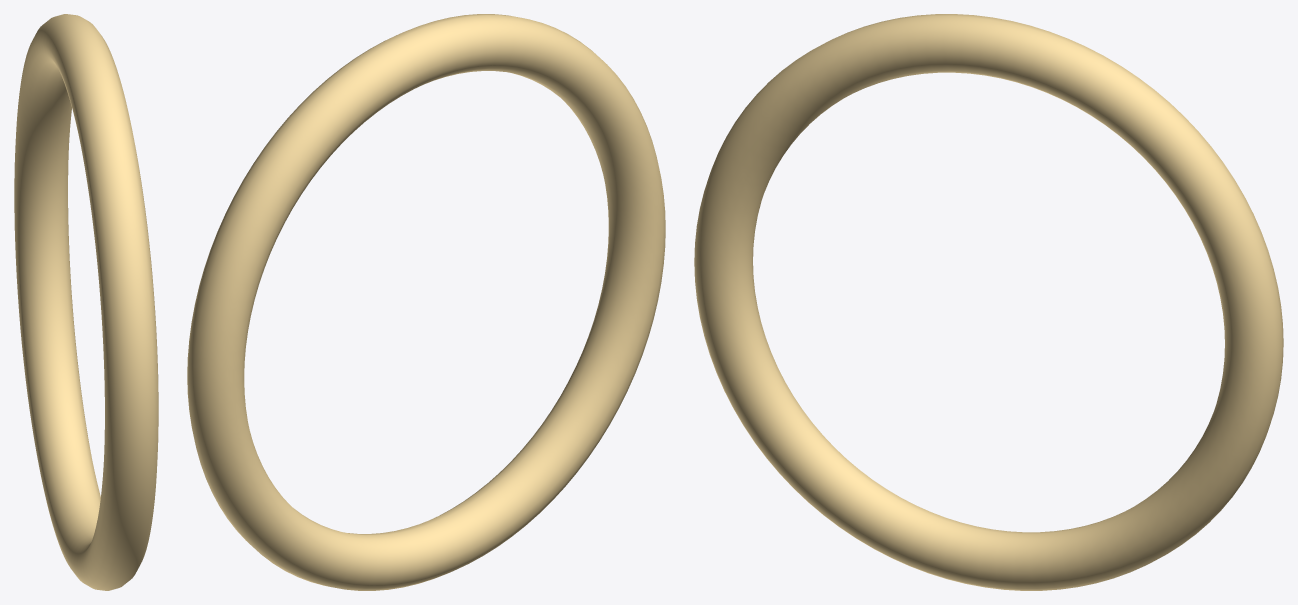
File: earring-hoop.glb
3 renders of one model, left to right at view 1: azimuth 30°, elevation 25°; view 2: azimuth 150°, elevation 25°; view 3: azimuth 270°, elevation 25°, orthographic. The views are drawn at different scales.
Visible parts, largest first — view 1: hoop; view 2: hoop; view 3: hoop.
Part boxes in pixels (x1,y1,x2,y2): hoop: (14, 14, 158, 590); hoop: (187, 14, 665, 590); hoop: (694, 14, 1283, 590).
Size of the model in its own units: 0.0112 by 0.0276 by 0.0261.
